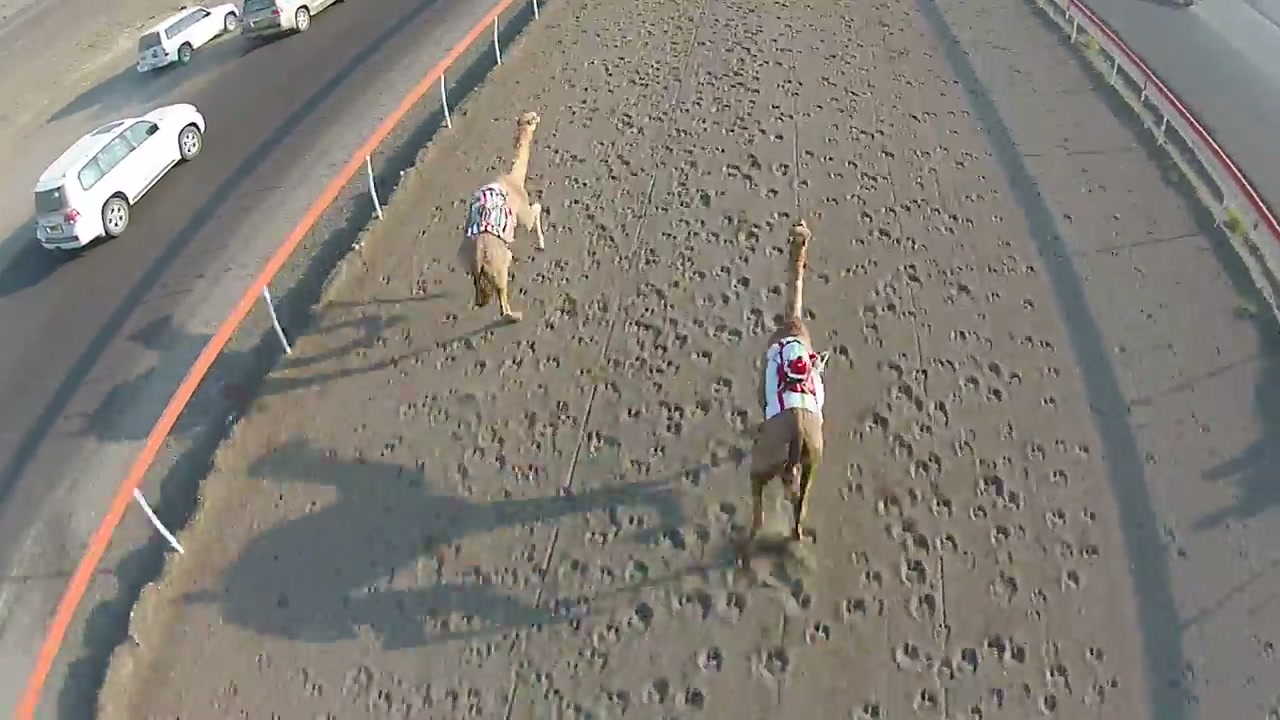animal_footprint: (475, 11, 729, 719), (791, 84, 1015, 697)
